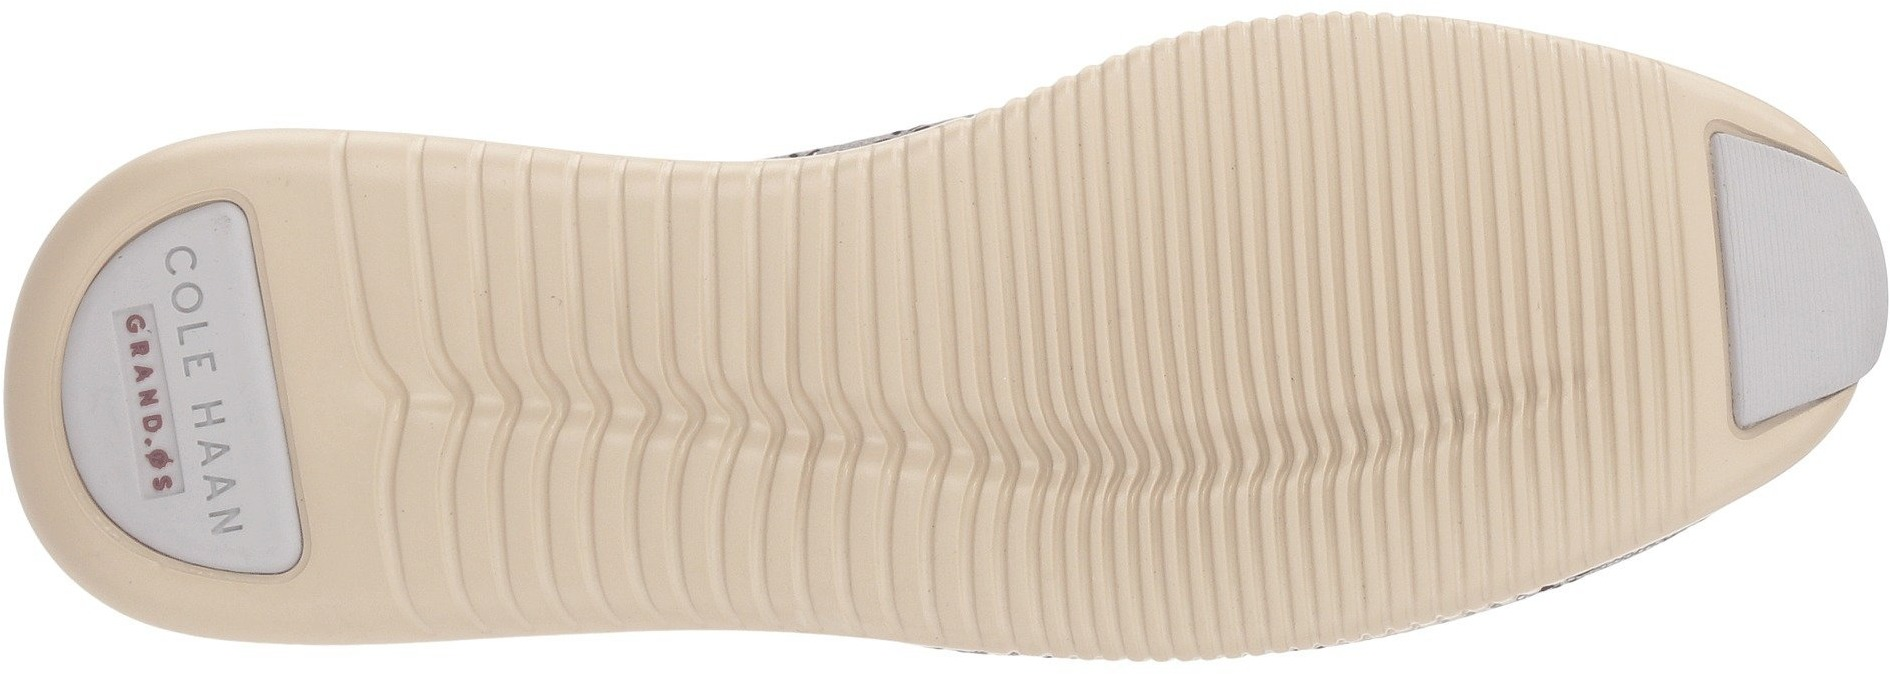chevron: (460, 178, 918, 626)
circle: (92, 217, 348, 562)
exclude: (74, 0, 1011, 203)
line: (1088, 63, 1630, 568), (460, 178, 918, 626), (1160, 99, 1469, 375)
other: (1743, 219, 1873, 344)
quad: (92, 217, 348, 562)
text: (92, 217, 348, 562), (118, 376, 250, 505), (117, 236, 242, 359)
